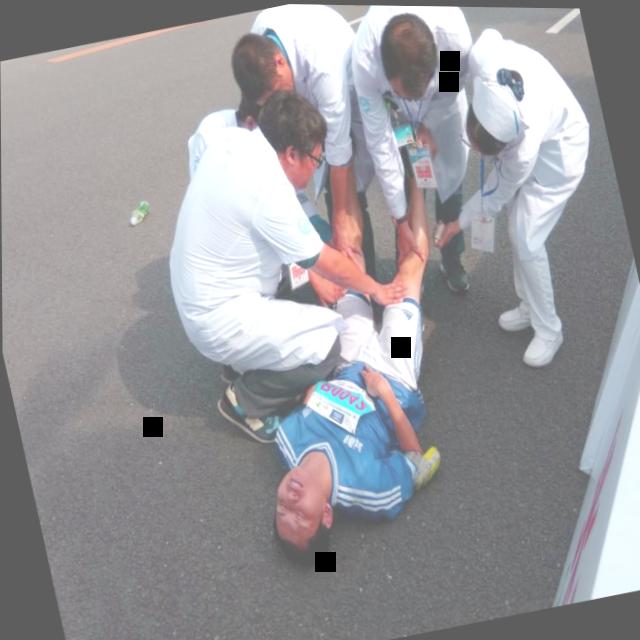Fall-Detected: (199, 181, 495, 583)
